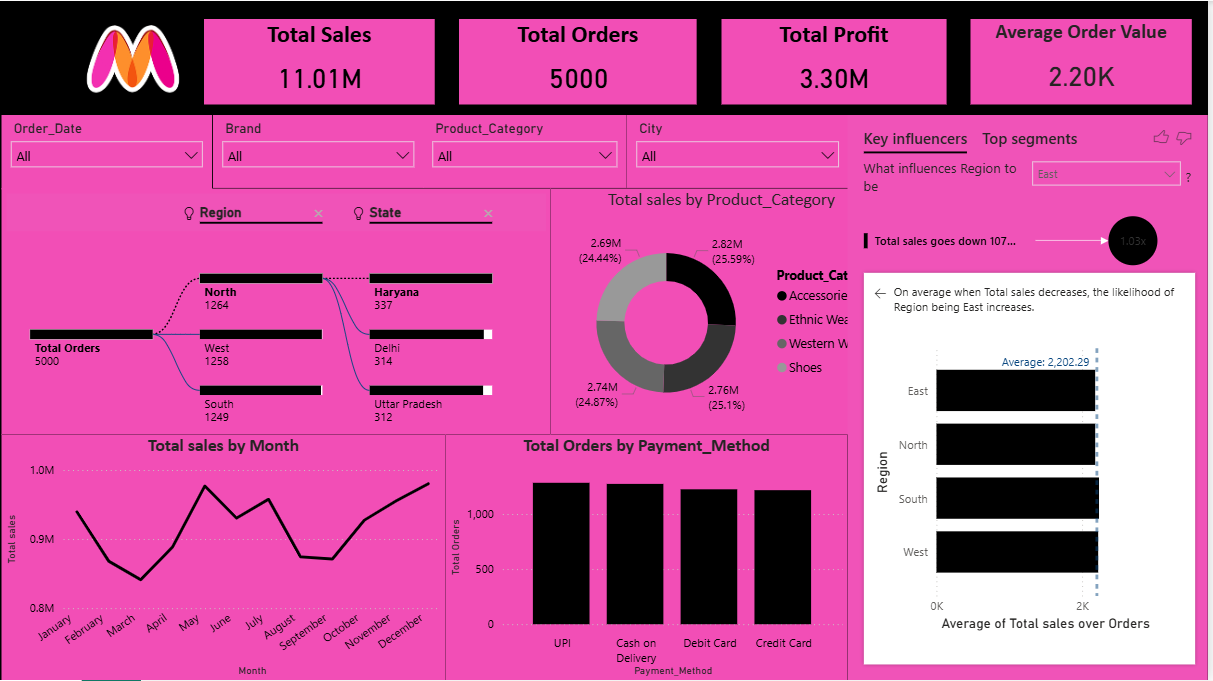

The page's visual inventory and layout, read from the dashboard file:
{"tool":"powerbi","page":{"name":"Page 1","canvas":[1280,720],"ordinal":0},"visuals":[{"type":"card","title":"Total Orders","fields":{"Values":["Orders.Total Orders"]},"box":[487.2,19.3,252.3,90.5],"z":0},{"type":"card","title":"Total Sales","fields":{"Values":["Orders.Total sales"]},"box":[215.7,19.3,244.6,90.5],"z":1000},{"type":"card","title":"Average Order Value","fields":{"Values":["Orders.Average Order Value"]},"box":[1028.4,19.3,234.9,90.5],"z":2000},{"type":"card","title":"Total Profit","fields":{"Values":["Orders.Total Profit"]},"box":[764.5,19.3,238.8,90.5],"z":3000},{"type":"lineChart","fields":{"Category":["Orders.Order_Date.Variation.Date Hierarchy.Month"],"Y":["Orders.Total sales"]},"box":[1.6,459.7,470.8,260.9],"z":4000},{"type":"donutChart","fields":{"Category":["Orders.Product_Category"],"Y":["Orders.Total sales"]},"box":[583.8,198.8,362.7,260.9],"z":5000},{"type":"columnChart","fields":{"Category":["Orders.Payment_Method"],"Y":["Orders.Total Orders"]},"box":[472.4,459.7,426.3,260.9],"z":7000},{"type":"slicer","fields":{"Values":["Orders.Order_Date"]},"box":[1.9,121.3,223.4,79],"z":9000},{"type":"slicer","fields":{"Values":["Orders.Brand"]},"box":[225.3,121.3,223.4,77],"z":10000},{"type":"slicer","fields":{"Values":["Orders.Product_Category"]},"box":[448.7,121.3,215.7,77],"z":11000},{"type":"slicer","fields":{"Values":["Orders.City"]},"box":[664.4,121.3,234.9,77],"z":12000},{"type":"image","box":[20.7,0,245,122.5],"z":13000},{"type":"decompositionTreeVisual","fields":{"Analyze":["Orders.Total Orders"],"ExplainBy":["Orders.Region","Orders.State"]},"box":[1.6,198.8,582.2,260.9],"z":14000},{"type":"keyDriversVisual","fields":{"Target":["Orders.Region"],"ExplainBy":["Orders.Total sales"]},"box":[898.7,120.9,381.7,599.7],"z":14001}]}

Visuals, with their boxes in screenshot pixels (x1, y1, x2, y2), scaled from the page's 1280x720 canvas onto the 1213x681 screenshot:
"Total Orders" card: Rect(462, 18, 701, 104)
"Total Sales" card: Rect(204, 18, 436, 104)
"Average Order Value" card: Rect(975, 18, 1197, 104)
"Total Profit" card: Rect(724, 18, 951, 104)
lineChart - Orders.Order_Date.Variation.Date Hierarchy.Month x Orders.Total sales: Rect(2, 435, 448, 680)
donutChart - Orders.Product_Category x Orders.Total sales: Rect(553, 188, 897, 435)
columnChart - Orders.Payment_Method x Orders.Total Orders: Rect(448, 435, 852, 680)
slicer - Orders.Order_Date: Rect(2, 115, 214, 189)
slicer - Orders.Brand: Rect(214, 115, 425, 188)
slicer - Orders.Product_Category: Rect(425, 115, 630, 188)
slicer - Orders.City: Rect(630, 115, 852, 188)
image: Rect(20, 0, 252, 116)
decompositionTreeVisual - Orders.Total Orders x Orders.Region: Rect(2, 188, 553, 435)
keyDriversVisual - Orders.Region x Orders.Total sales: Rect(852, 114, 1212, 680)
